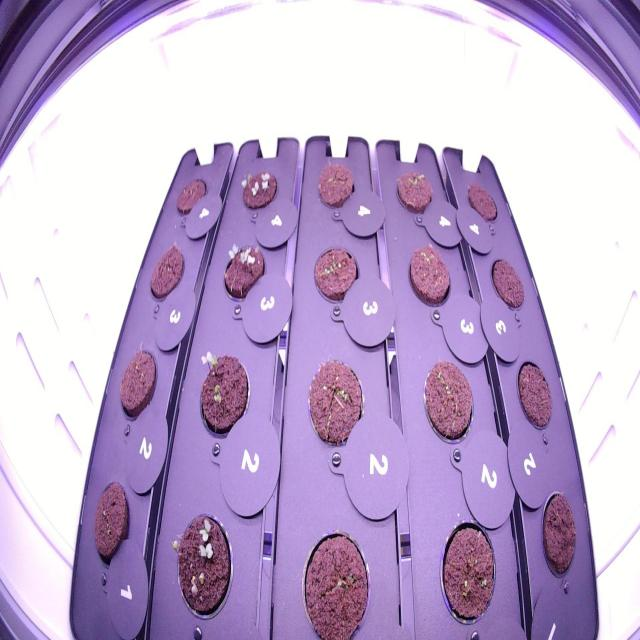germination: (166, 503, 238, 630), (190, 338, 254, 446), (217, 234, 271, 309), (235, 159, 283, 222)
pod: (295, 520, 379, 638), (437, 508, 505, 631), (302, 352, 369, 456), (419, 352, 480, 451), (535, 482, 581, 593), (87, 474, 134, 572), (308, 237, 364, 314), (404, 241, 456, 319), (114, 338, 161, 424), (511, 353, 557, 436), (145, 235, 188, 313), (312, 154, 362, 219), (486, 246, 530, 316), (390, 164, 439, 222), (461, 174, 504, 230), (168, 166, 210, 221)
